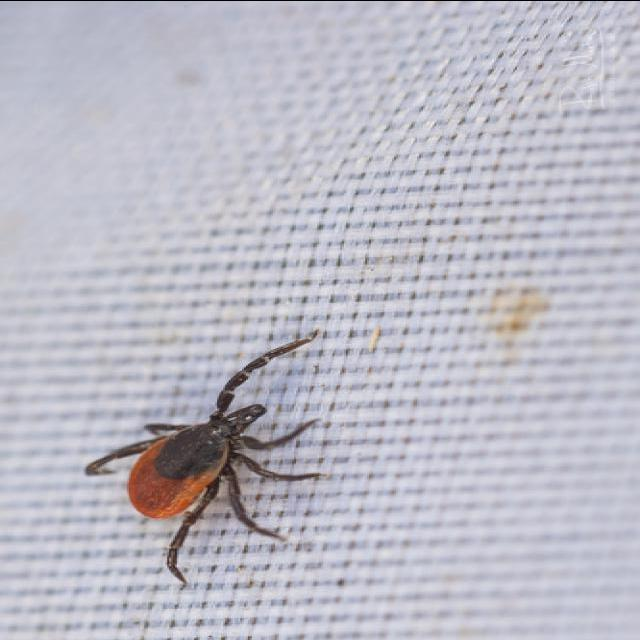Ixodes Ricinus-F: (86, 333, 319, 584)
